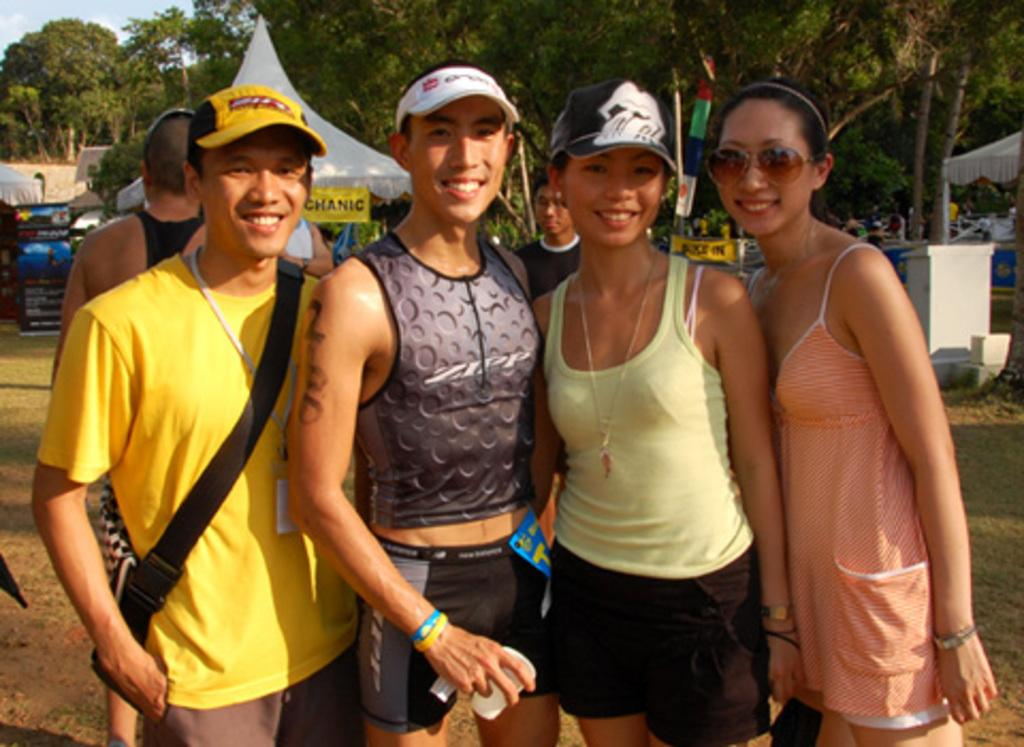Hat: (552, 77, 676, 173), (183, 90, 328, 160)
